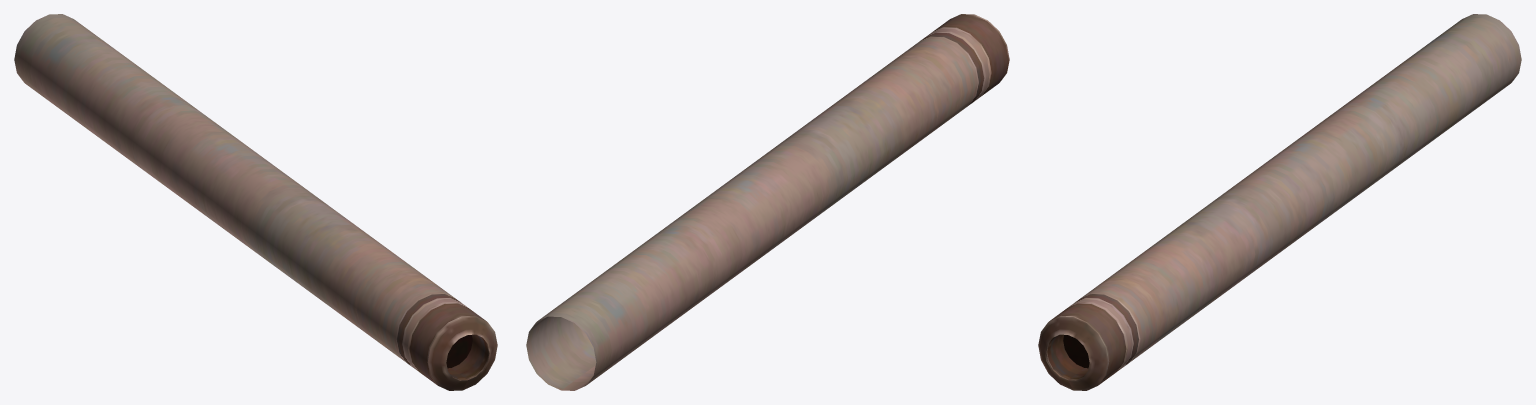
Rendered from merchant_cruiser_medium_turretbarrel_s01_l0.fbx.
3 renders of one model, left to right at view 1: azimuth 30°, elevation 25°; view 2: azimuth 150°, elevation 25°; view 3: azimuth 330°, elevation 25°, orthographic.
Parts seen in each view (by area): view 1: mesh_node; view 2: mesh_node; view 3: mesh_node.
Part boxes in pixels (x1,y1,x2,y2): mesh_node: (14, 14, 497, 390); mesh_node: (526, 14, 1009, 390); mesh_node: (1038, 14, 1521, 390).
Bounding box in the file's own units: 0.5261 × 0.5269 × 5.45.
1 material, 1 textured.
